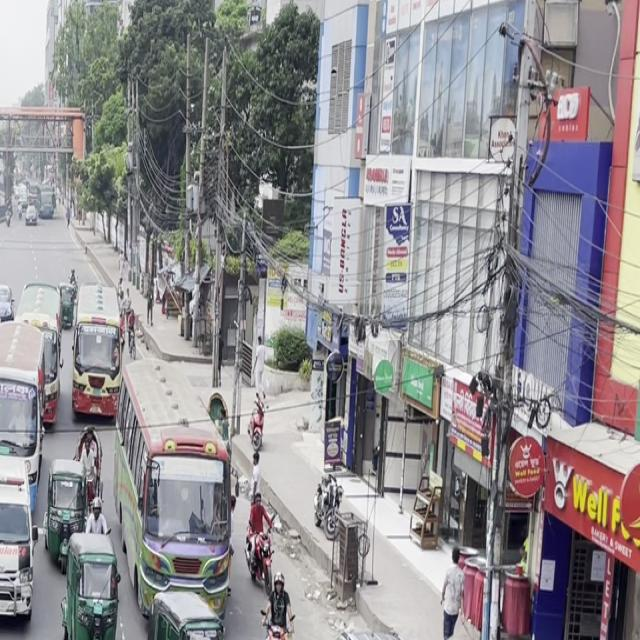bus: (71, 276, 137, 427), (0, 305, 47, 462)
car: (0, 474, 40, 635), (306, 617, 478, 640), (0, 615, 25, 639)
motorbike: (239, 484, 278, 592), (256, 579, 298, 640), (39, 371, 61, 436)
rickshaw: (60, 526, 125, 640), (40, 449, 87, 576), (140, 583, 230, 640)
